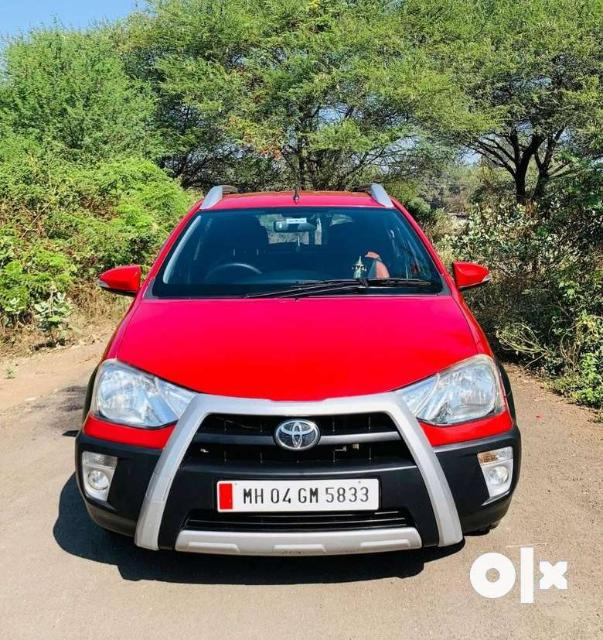Indian_Number_Plate: (215, 478, 383, 512)
